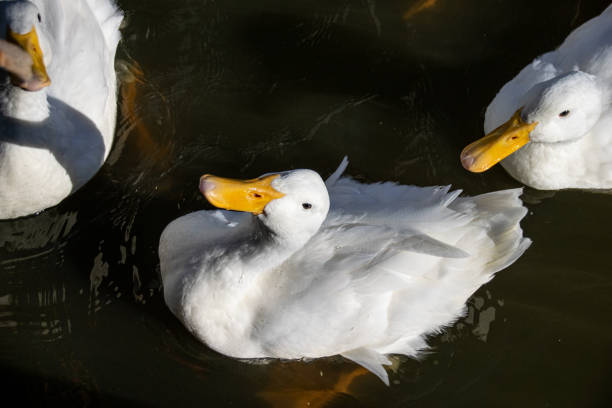goose: (144, 156, 540, 377), (457, 5, 612, 215), (1, 1, 141, 230)
